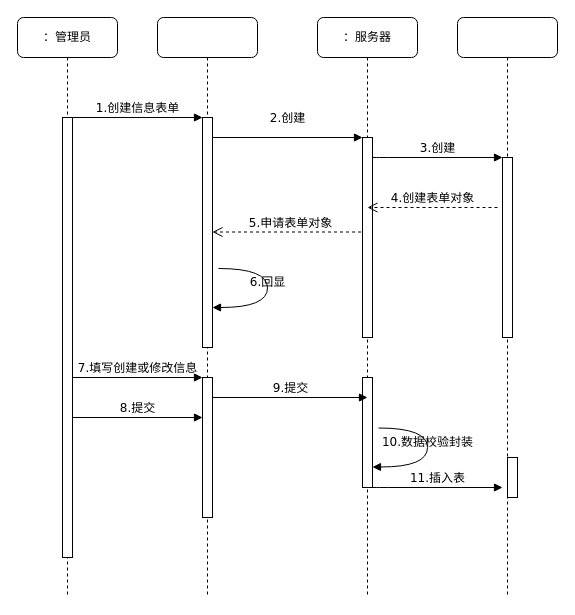
Image size: 575x615. Some labels were removed from this diagram. The box of each missing label's shape, as (x1, y1, x2, y2) in pixels:
：信息创建修改界面: (156, 16, 258, 598)
：学生教师表: (456, 16, 558, 598)
